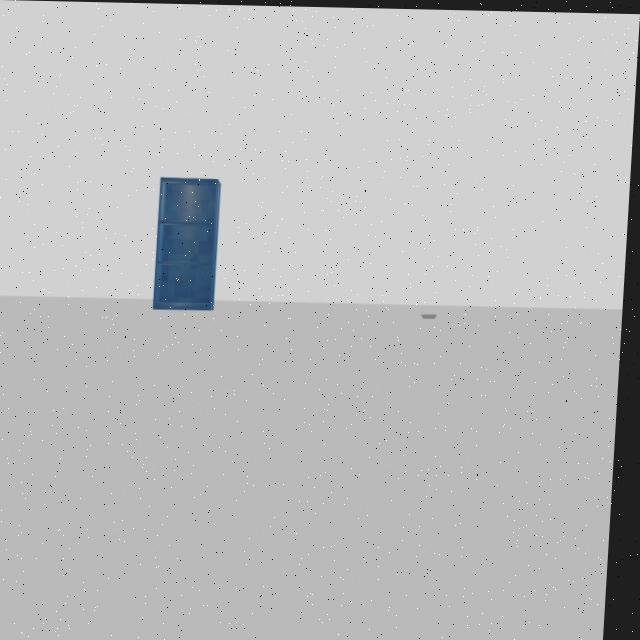bowl: (421, 302, 447, 324)
shelf: (143, 169, 246, 328)
